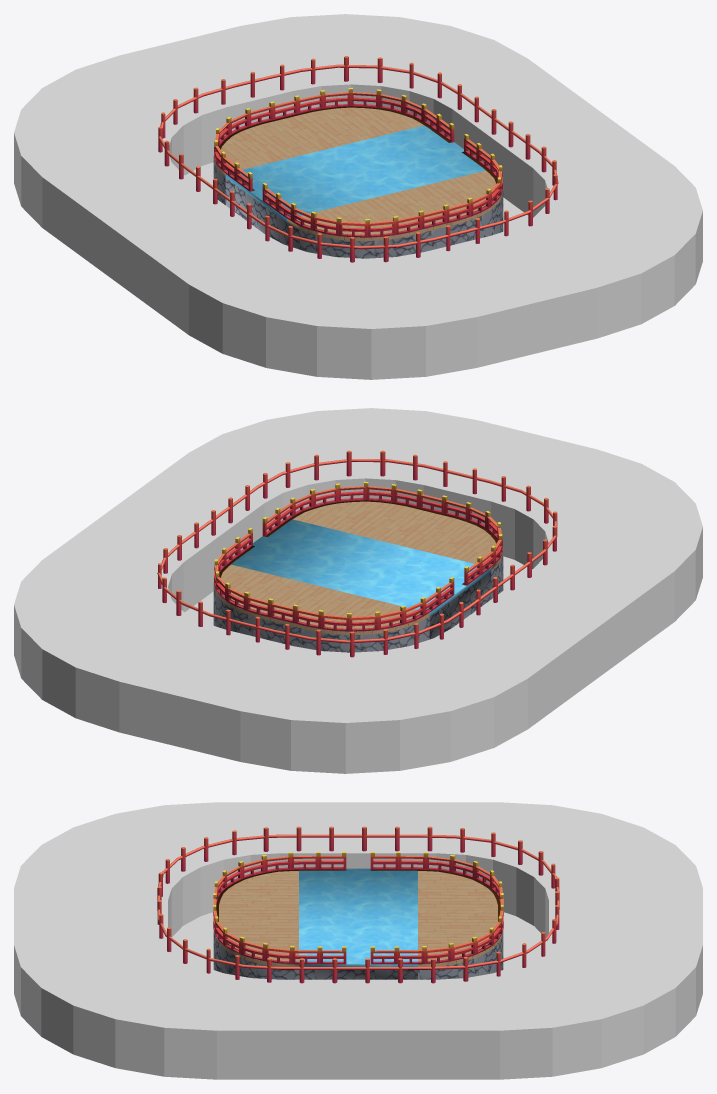
File: Duel_Stage 29.fbx
The picture shows the model from 3 angles, top to bottom: view 1: azimuth 30°, elevation 25°; view 2: azimuth 150°, elevation 25°; view 3: azimuth 270°, elevation 25°; orthographic projection. The views are drawn at different scales.
Parts seen in each view (by area): view 1: half_rounded_square_platform__1_.001, half_rounded_square_platform__1_, Cube.030, Cube.034, Cube.033; view 2: half_rounded_square_platform__1_.001, half_rounded_square_platform__1_, Cube.030, Cube.034, Cube.033; view 3: half_rounded_square_platform__1_.001, half_rounded_square_platform__1_, Cube.030, Cube.034, Cube.033.
Part boxes in pixels (x1,y1,x2,y2): half_rounded_square_platform__1_.001: (14,14,702,379); half_rounded_square_platform__1_: (213,107,503,258); Cube.030: (214,87,502,237); Cube.034: (158,56,558,262); Cube.033: (219,106,497,234); half_rounded_square_platform__1_.001: (14,408,702,773); half_rounded_square_platform__1_: (213,501,503,652); Cube.030: (214,481,502,631); Cube.034: (157,450,557,657); Cube.033: (219,500,497,628); half_rounded_square_platform__1_.001: (14,802,702,1079); half_rounded_square_platform__1_: (213,868,503,979); Cube.030: (213,851,503,964); Cube.034: (157,826,559,983); Cube.033: (216,869,500,960).
Size of the model in its own units: 9996 by 1472 by 12741.
